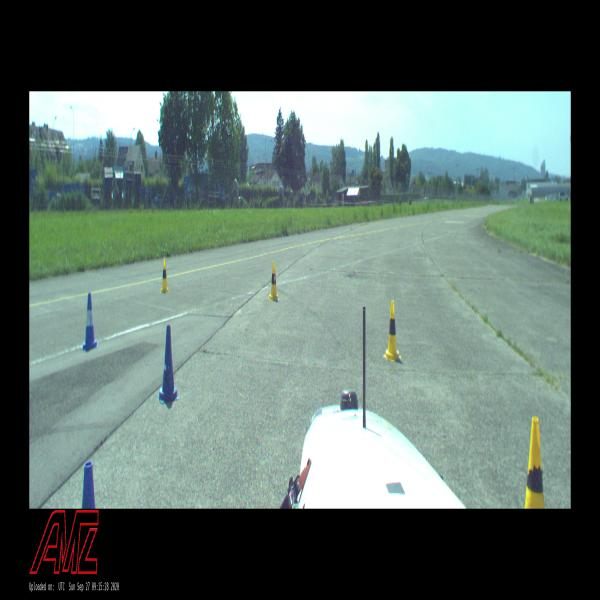blue_cone: (158, 324, 179, 404), (81, 293, 98, 351)
yellow_cone: (525, 416, 545, 508), (383, 300, 402, 363), (268, 262, 279, 302), (160, 258, 169, 294)
